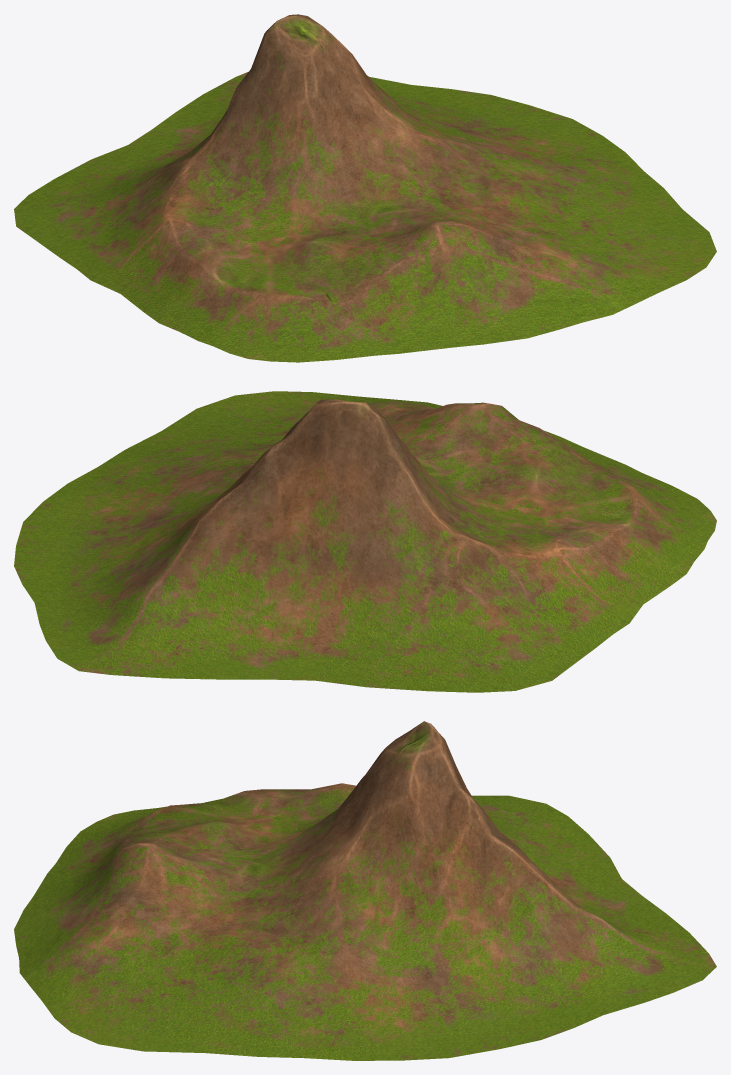
The model's file is EP1_terrain01a.fbx.
The picture shows the model from 3 angles, top to bottom: view 1: azimuth 30°, elevation 25°; view 2: azimuth 150°, elevation 25°; view 3: azimuth 270°, elevation 25°; orthographic projection. The views are drawn at different scales.
Parts seen in each view (by area): view 1: Terrain01a; view 2: Terrain01a; view 3: Terrain01a.
Part boxes in pixels (<box>): Terrain01a: <box>14,14,716,362</box>; Terrain01a: <box>14,391,716,692</box>; Terrain01a: <box>14,721,716,1060</box>.
Bounding box in the file's own units: 12.54 × 4.03 × 14.04.
